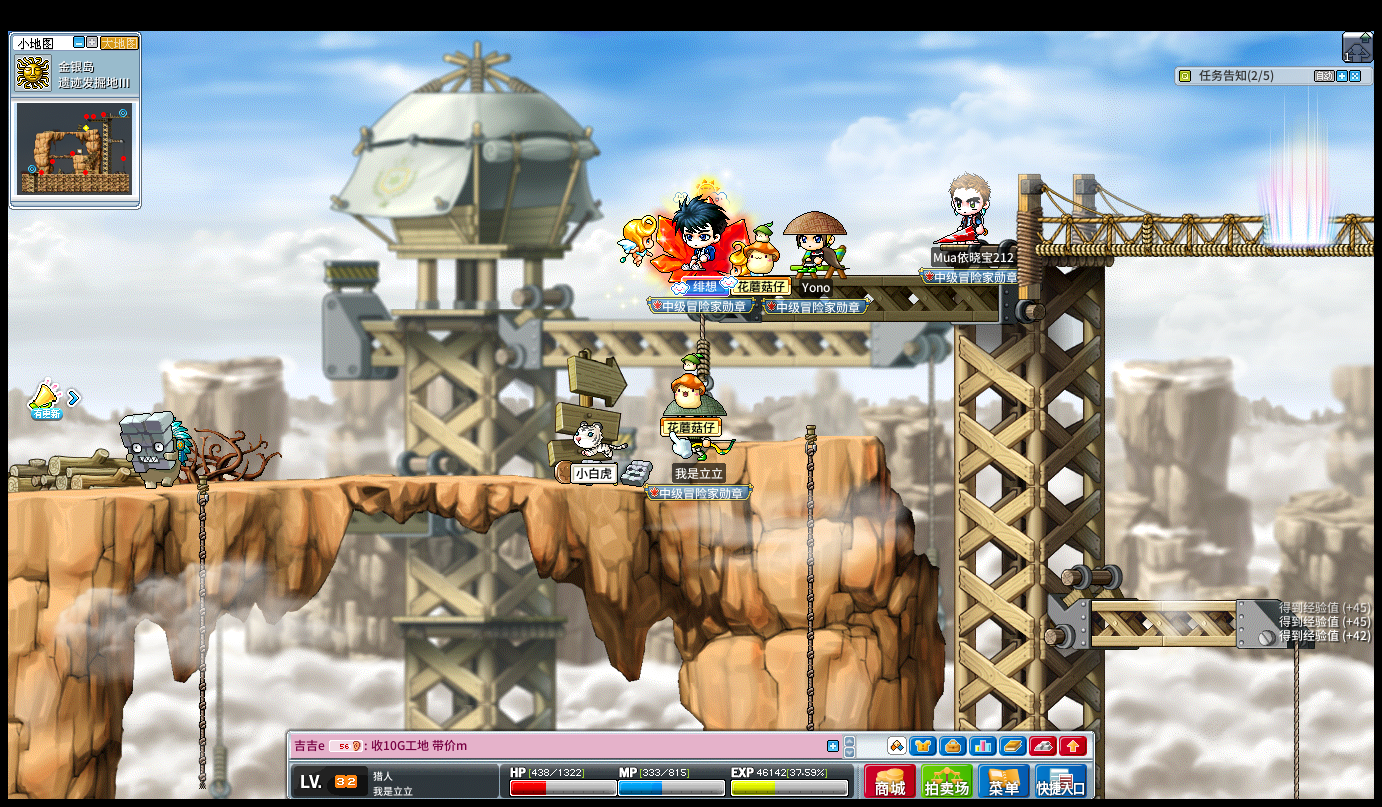floor: (13, 470, 766, 499), (43, 472, 780, 491), (735, 433, 875, 447)
monster: (120, 411, 191, 489)
rope: (192, 465, 208, 801), (802, 426, 817, 729), (1288, 644, 1302, 793)
